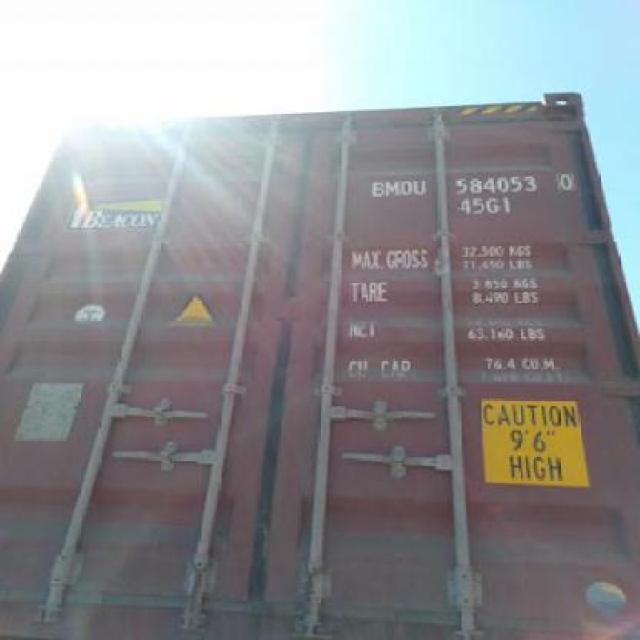ISO: (455, 197, 512, 216)
container_number: (372, 172, 570, 195)
